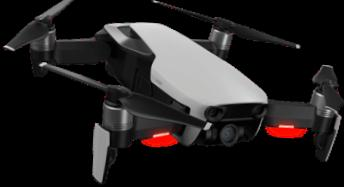drone: (1, 0, 344, 182)
